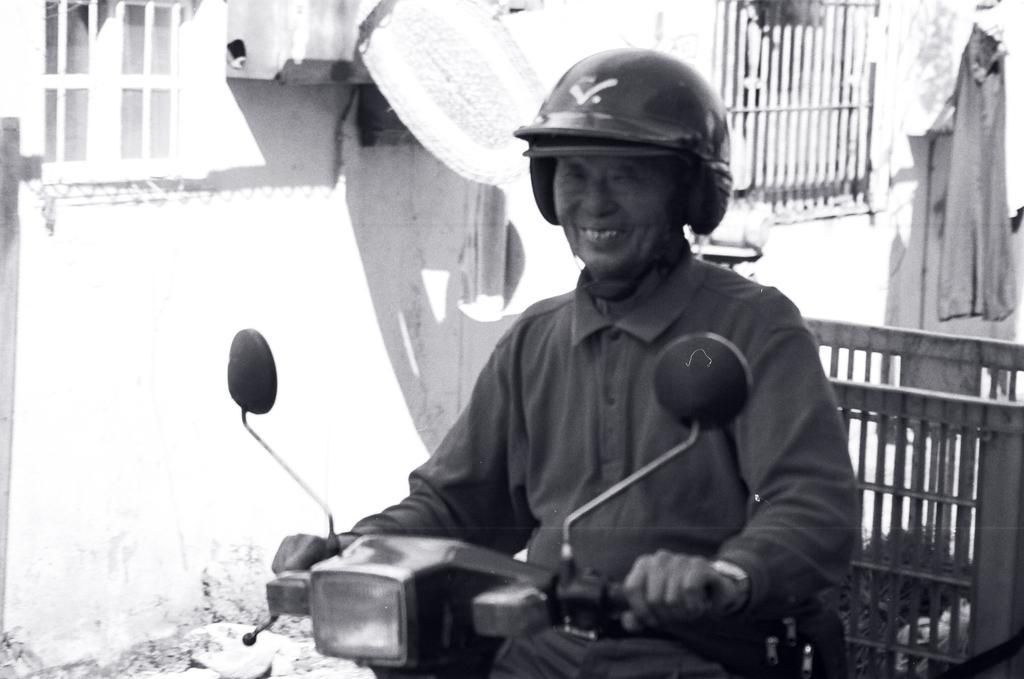helmet: (511, 45, 733, 303)
